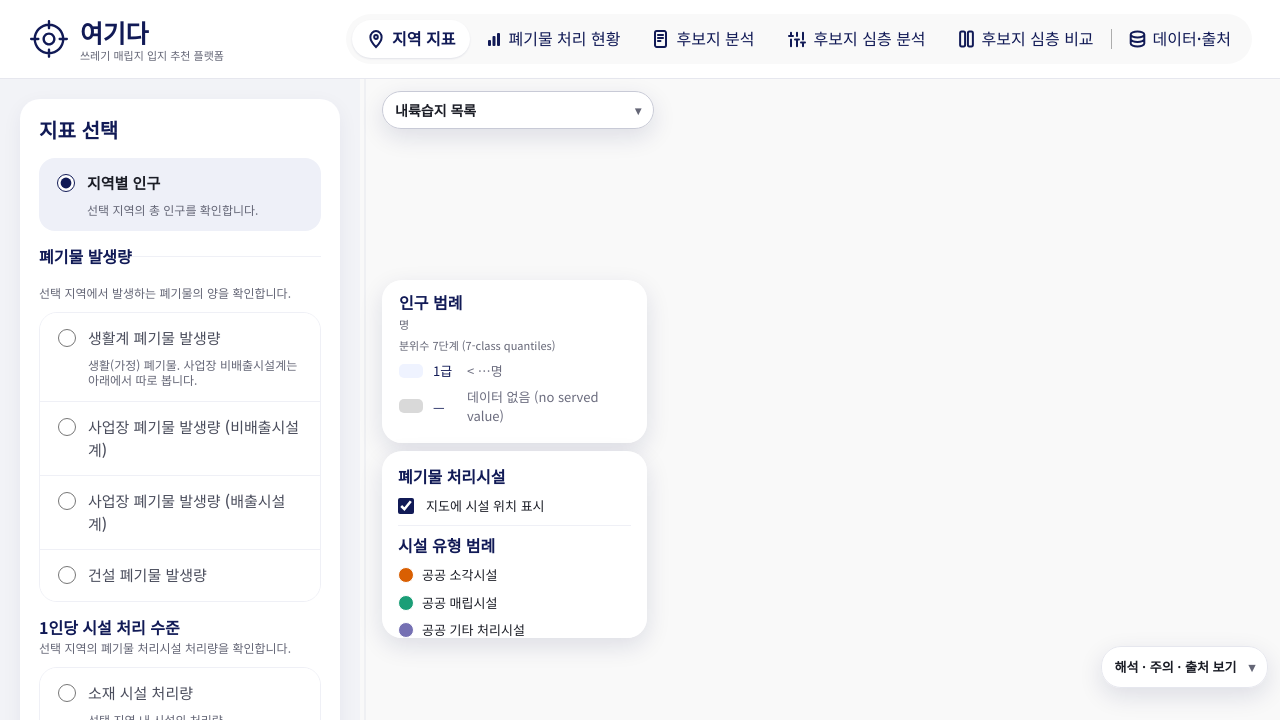
Test: closing returns to the prior destination › returns to the exact suitability SUB-VIEW, not just the area
The image size is (1280, 720).
Click the button with test id "suitability-view-cost" at {"x": 704, "y": 39}, box x1=638 y1=20 x2=770 y2=58
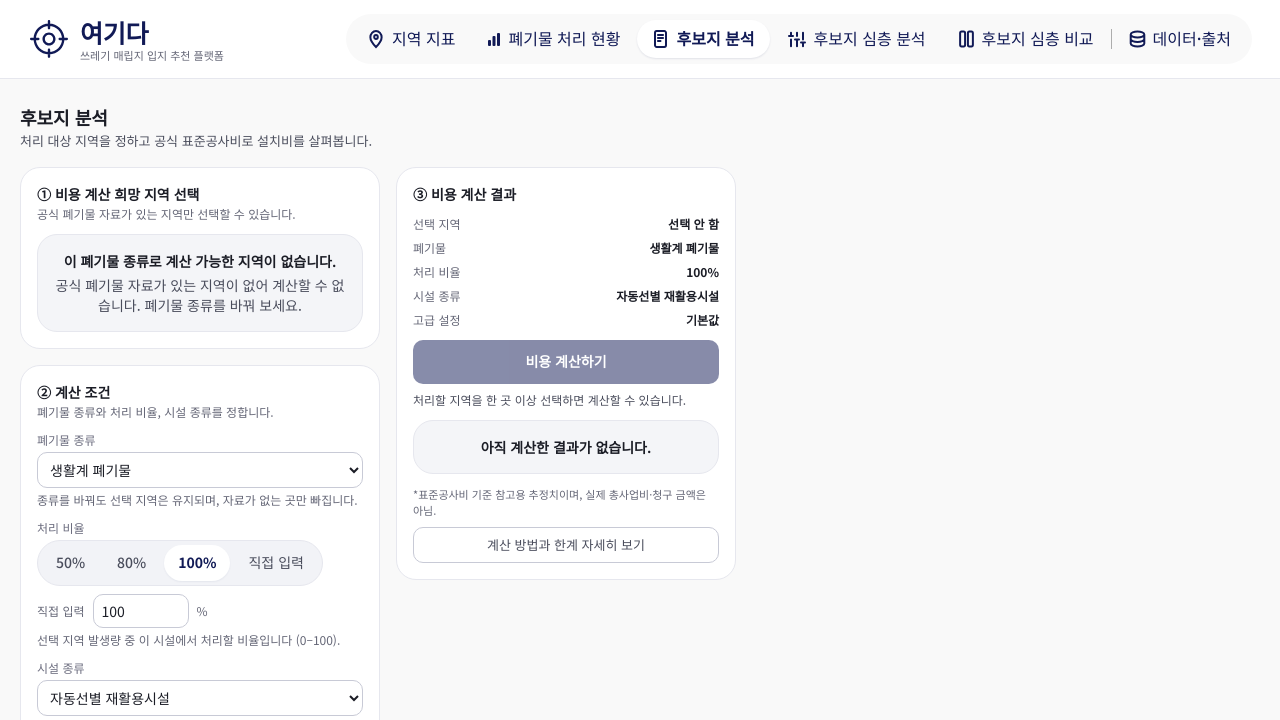
Click the button with test id "mode-transparency" at {"x": 1180, "y": 39}, box x1=1114 y1=20 x2=1246 y2=58
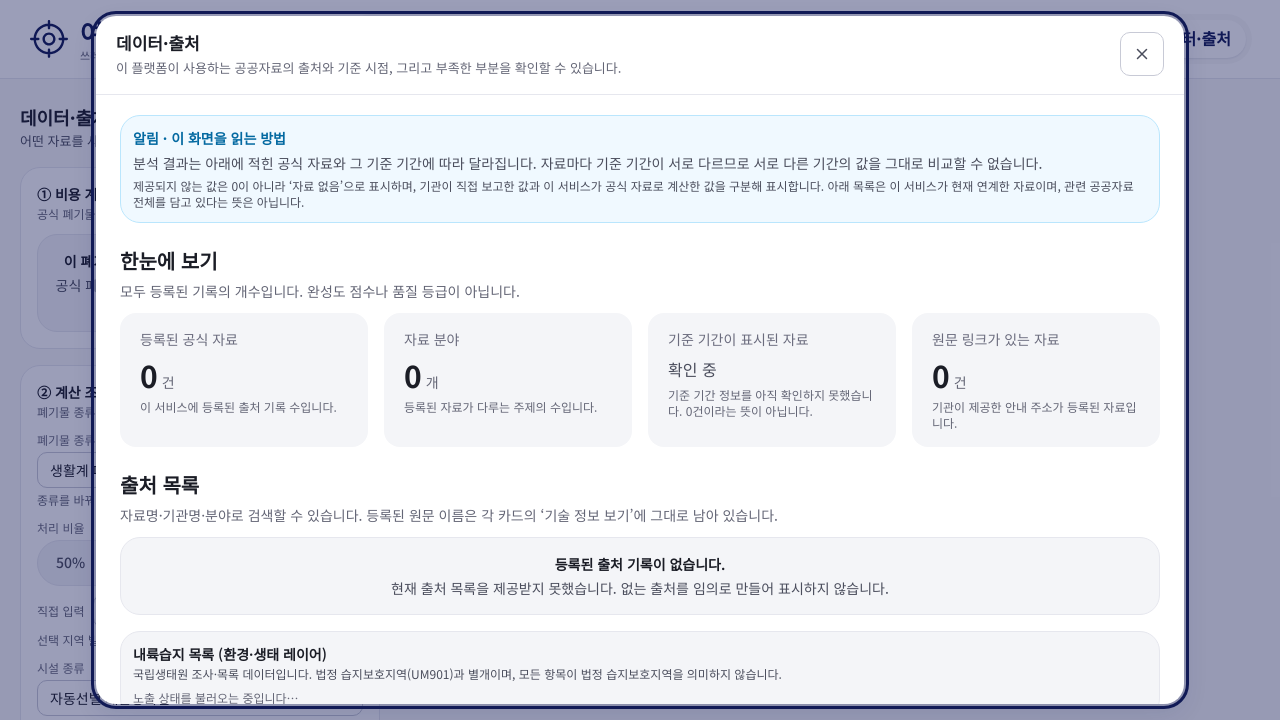
Now the dialog with test id "data-sources-dialog" is shown
Click the button with test id "data-sources-dialog-close" at {"x": 1142, "y": 54}, box x1=1120 y1=32 x2=1164 y2=76
(page scrolled)
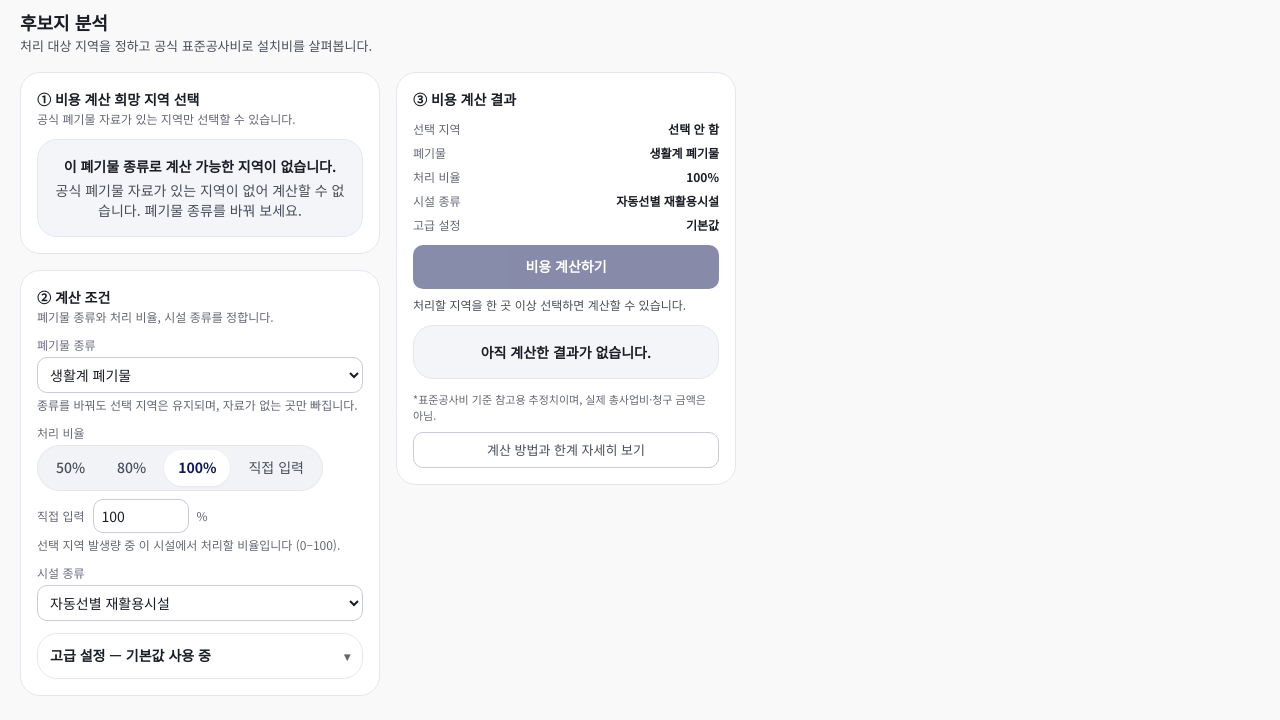
Now the element with test id "facility-cost-dashboard" is shown, box x1=20 y1=9 x2=736 y2=696
Now the dialog with test id "data-sources-dialog" is gone
